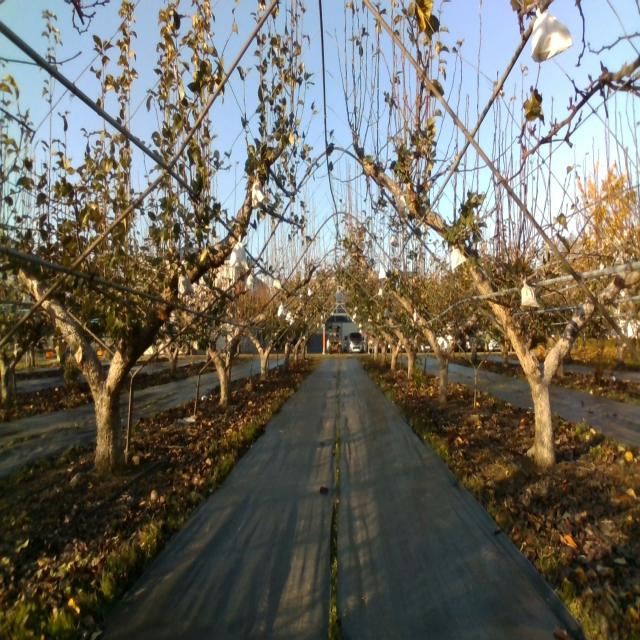pearbags: (530, 6, 574, 67), (520, 275, 540, 311), (228, 235, 248, 266), (252, 172, 268, 210), (448, 243, 468, 272), (176, 272, 194, 296), (394, 196, 407, 221)
